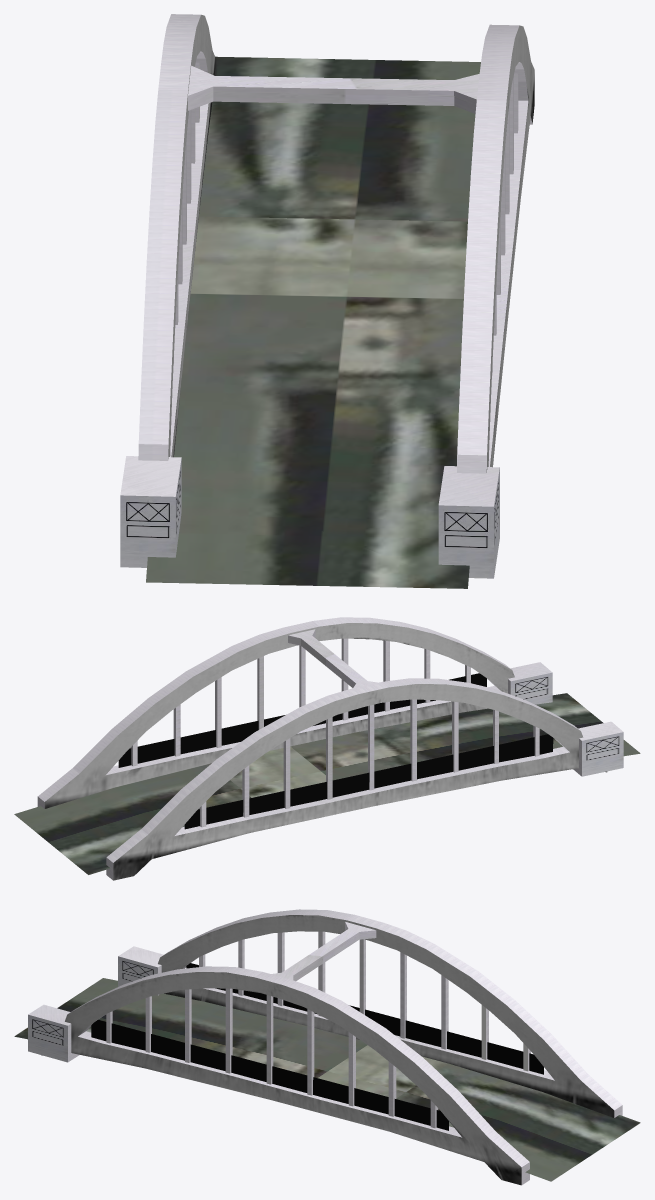
Rendered from puente_papelera.gltf.
3 renders of one model, top to bottom at view 1: azimuth 30°, elevation 25°; view 2: azimuth 150°, elevation 25°; view 3: azimuth 270°, elevation 25°, orthographic. The views are drawn at different scales.
Parts seen in each view (by area): view 1: node-0; view 2: node-0; view 3: node-0.
Part boxes in pixels (box(x1,y1,x2,y2)): node-0: box(120, 14, 534, 588); node-0: box(14, 617, 640, 880); node-0: box(14, 909, 640, 1185).
Size of the model in its own units: 19.85 by 6.18 by 25.8.
Materials: 10 (9 with a texture image).
